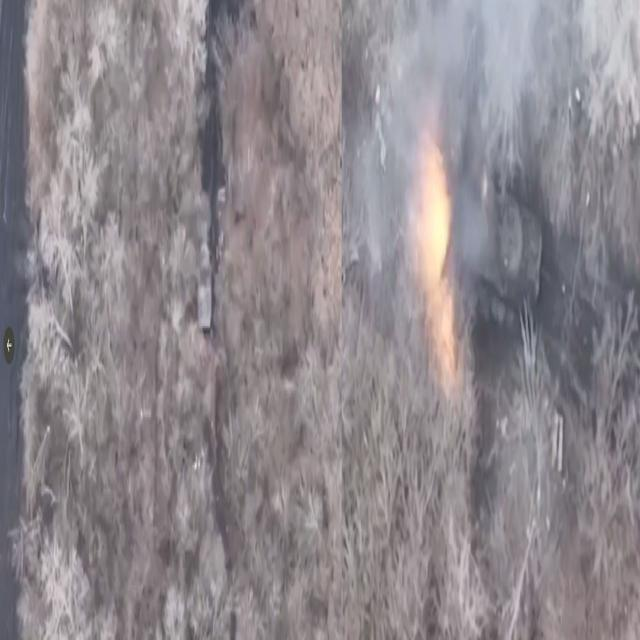cars: (196, 215, 212, 328)
destroyed: (442, 147, 542, 334)
